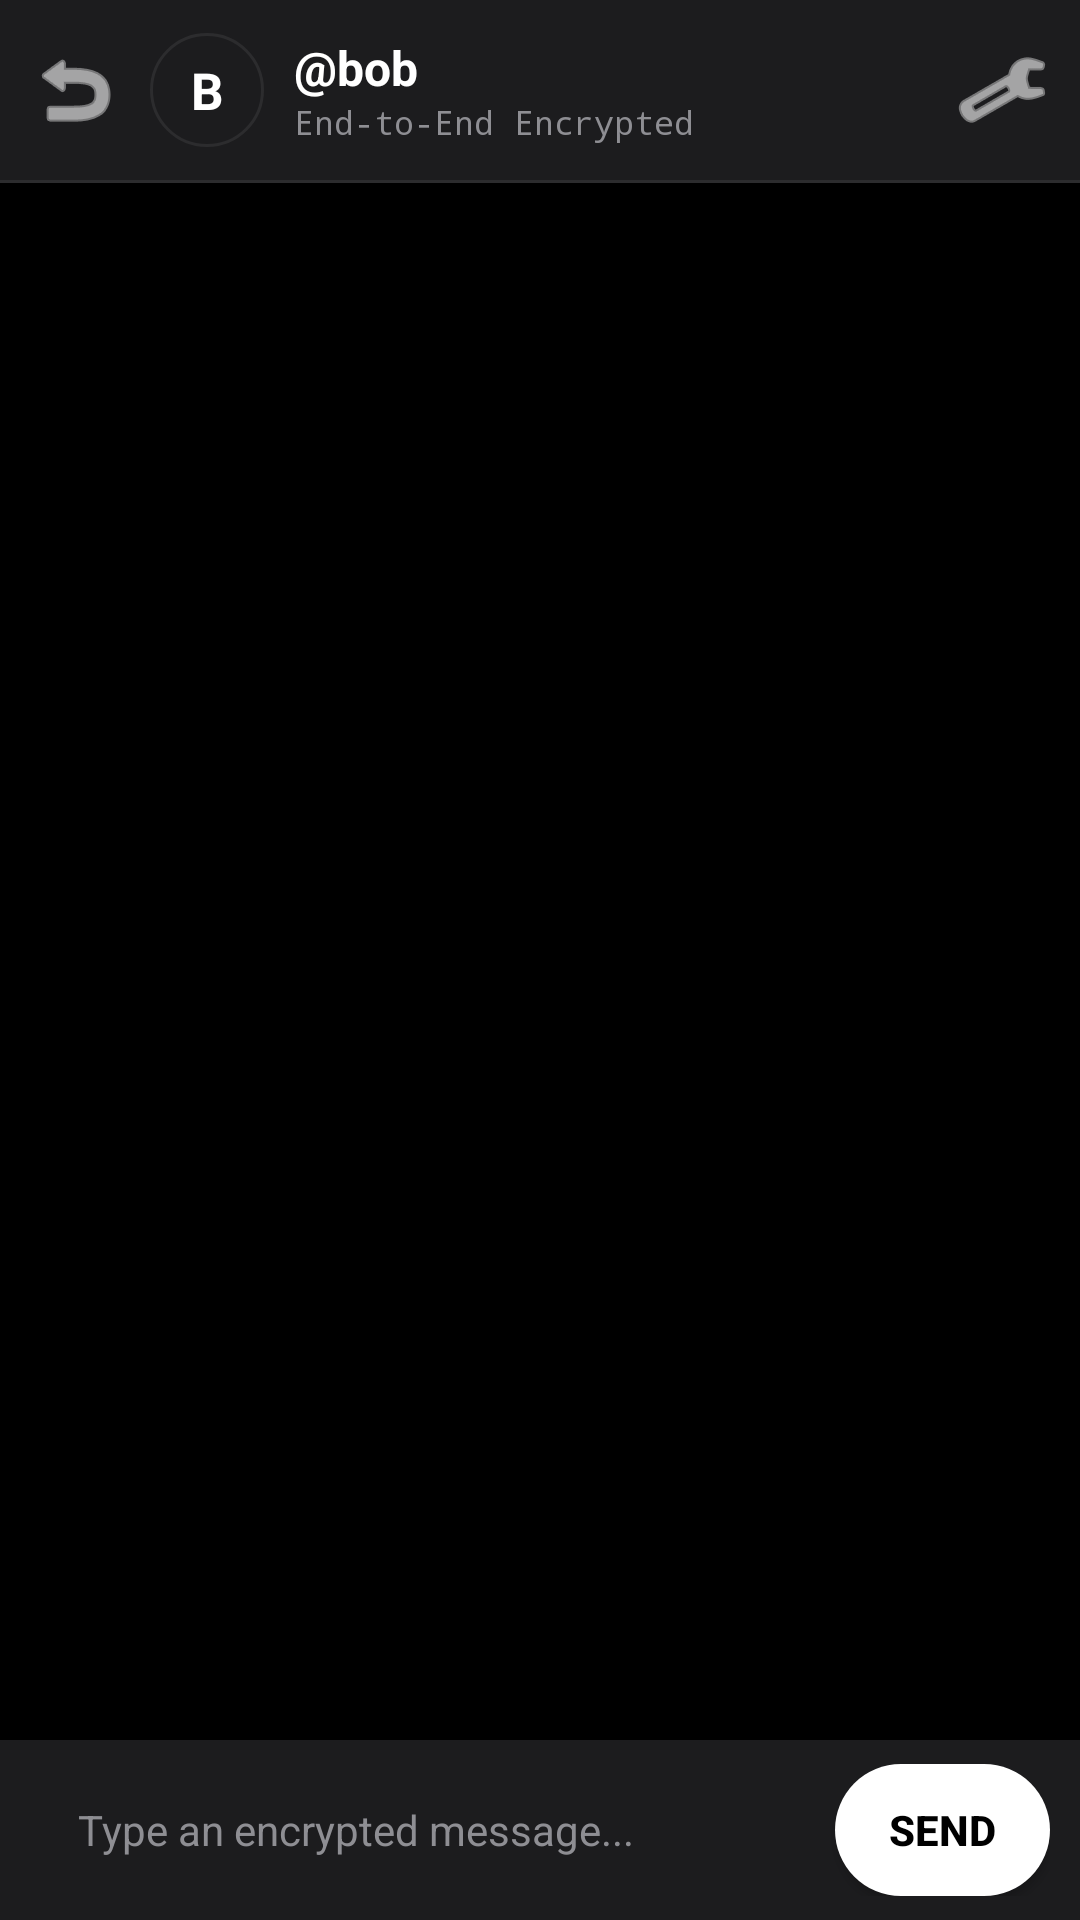

Screen size 1080×1920. Icon name, then its box in pixels as (x1, y1, x2, y2):
Back: (42, 59, 111, 122)
